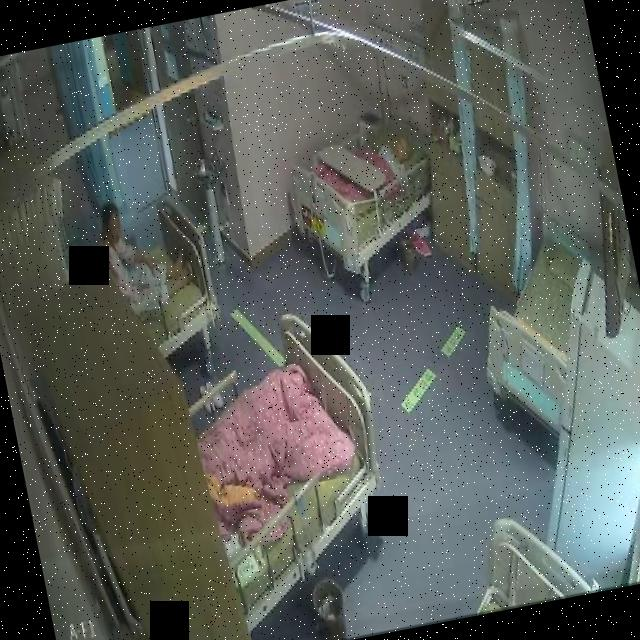bed: (176, 309, 398, 603), (276, 95, 446, 271), (468, 209, 608, 406), (100, 188, 226, 356)
patient: (99, 188, 196, 318), (369, 134, 421, 186)
sit: (93, 189, 199, 322)
